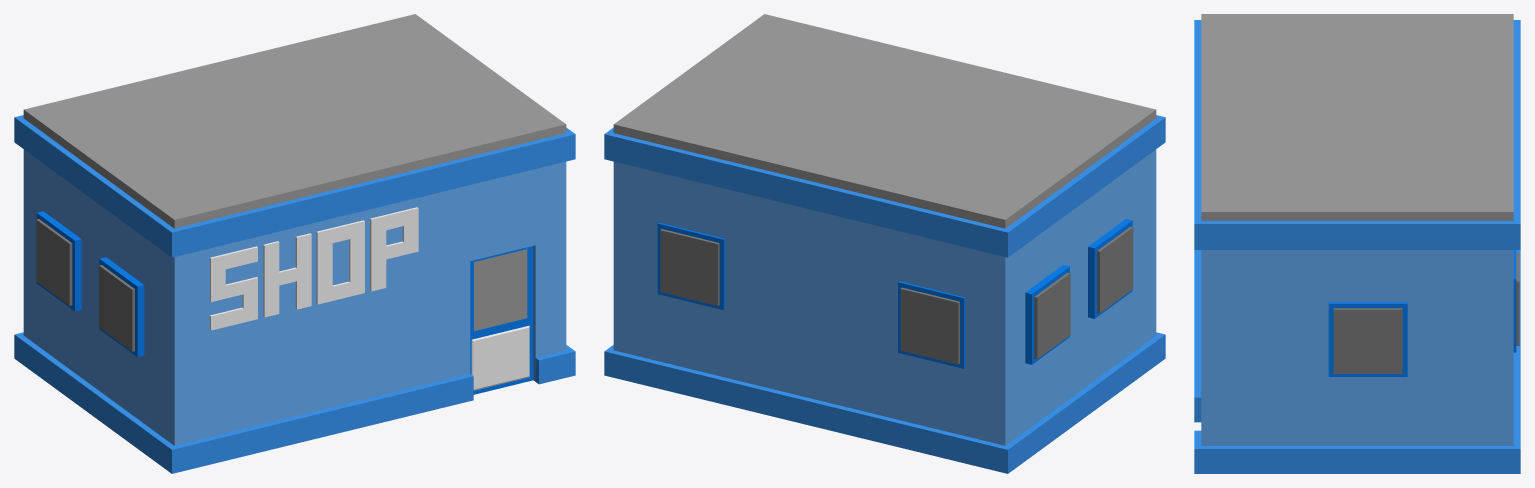
The model's file is SM_House_02_02.FBX.
3 renders of one model, left to right at view 1: azimuth 30°, elevation 25°; view 2: azimuth 150°, elevation 25°; view 3: azimuth 270°, elevation 25°, orthographic. The views are drawn at different scales.
Parts seen in each view (by area): view 1: SM_House_02_02; view 2: SM_House_02_02; view 3: SM_House_02_02.
Boxes of the visible parts, left/top/right/bottom form: SM_House_02_02: left=14, top=14, right=575, bottom=473; SM_House_02_02: left=604, top=14, right=1165, bottom=473; SM_House_02_02: left=1194, top=14, right=1520, bottom=473.
Bounding box in the file's own units: 6.24 × 3.66 × 4.18.
1 material, 1 textured.
